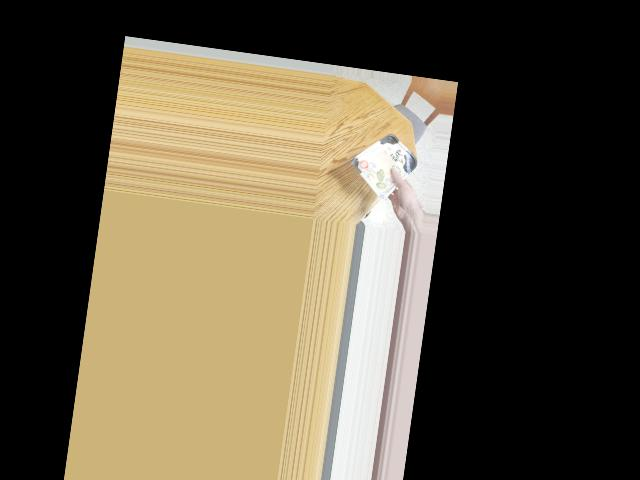cheese: (355, 138, 416, 183)
